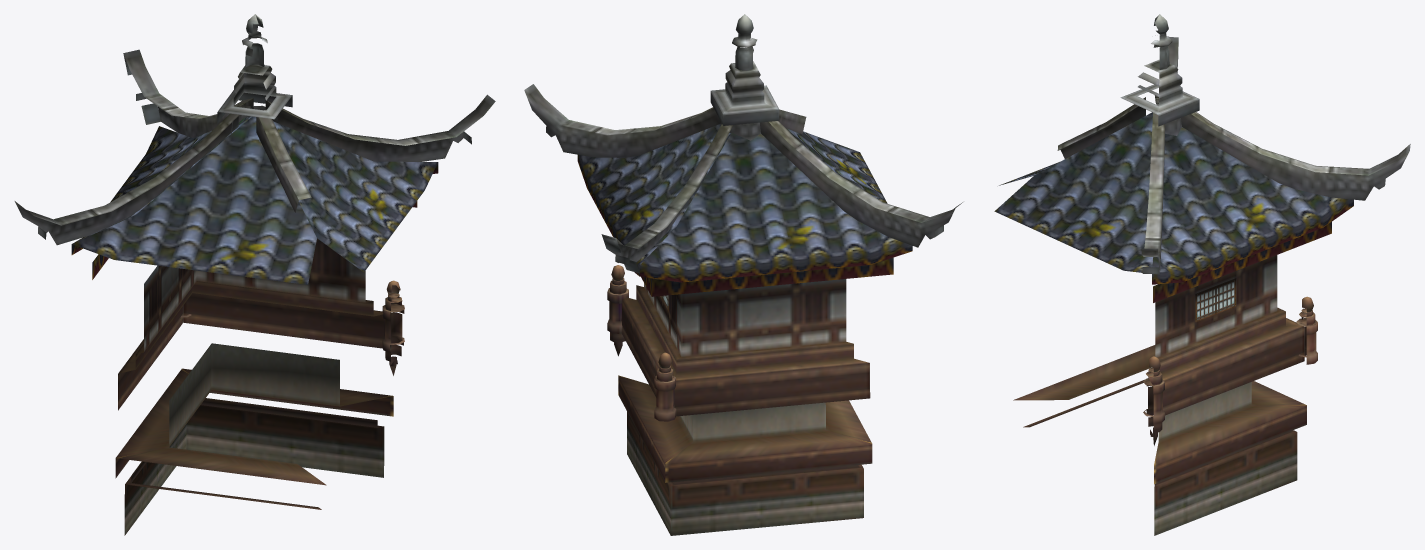
File: S2_Build_XSC016_H3.FBX
3 views of the same model, side by side, from view 1: azimuth 30°, elevation 25°; view 2: azimuth 150°, elevation 25°; view 3: azimuth 270°, elevation 25° (orthographic). The views are drawn at different scales.
Visible parts, largest first — view 1: S2_Build_XSC016_H3; view 2: S2_Build_XSC016_H3; view 3: S2_Build_XSC016_H3.
Boxes of the visible parts, x1,y1,x2,y2 form: S2_Build_XSC016_H3: [14, 14, 495, 535]; S2_Build_XSC016_H3: [524, 14, 962, 535]; S2_Build_XSC016_H3: [994, 14, 1410, 535].
Bounding box in the file's own units: 4206 × 4281 × 3477.
